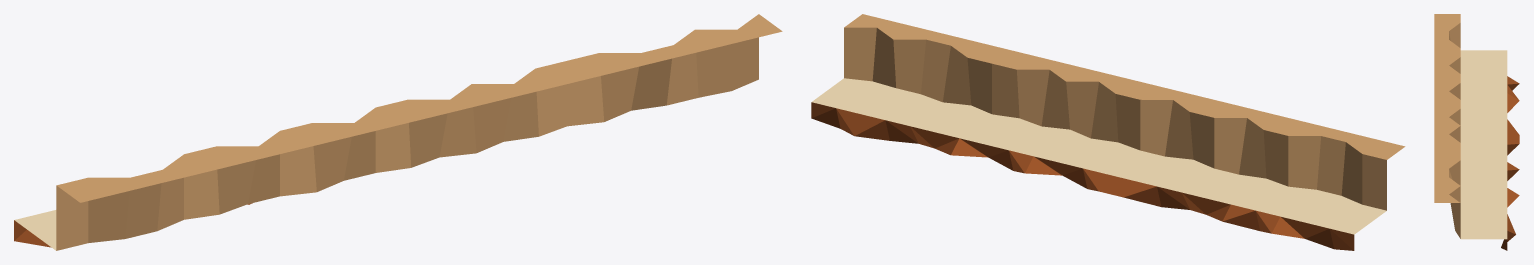
Rendered from road.fbx.
3 renders of one model, left to right at view 1: azimuth 30°, elevation 25°; view 2: azimuth 150°, elevation 25°; view 3: azimuth 270°, elevation 25°, orthographic. The views are drawn at different scales.
Visible parts, largest first — view 1: Plane; view 2: Plane; view 3: Plane.
Part boxes in pixels (box(x1,y1,x2,y2)): Plane: box(14, 14, 782, 250); Plane: box(811, 14, 1405, 250); Plane: box(1434, 14, 1519, 250).
Size of the model in its own units: 42012 by 5524 by 8024.
